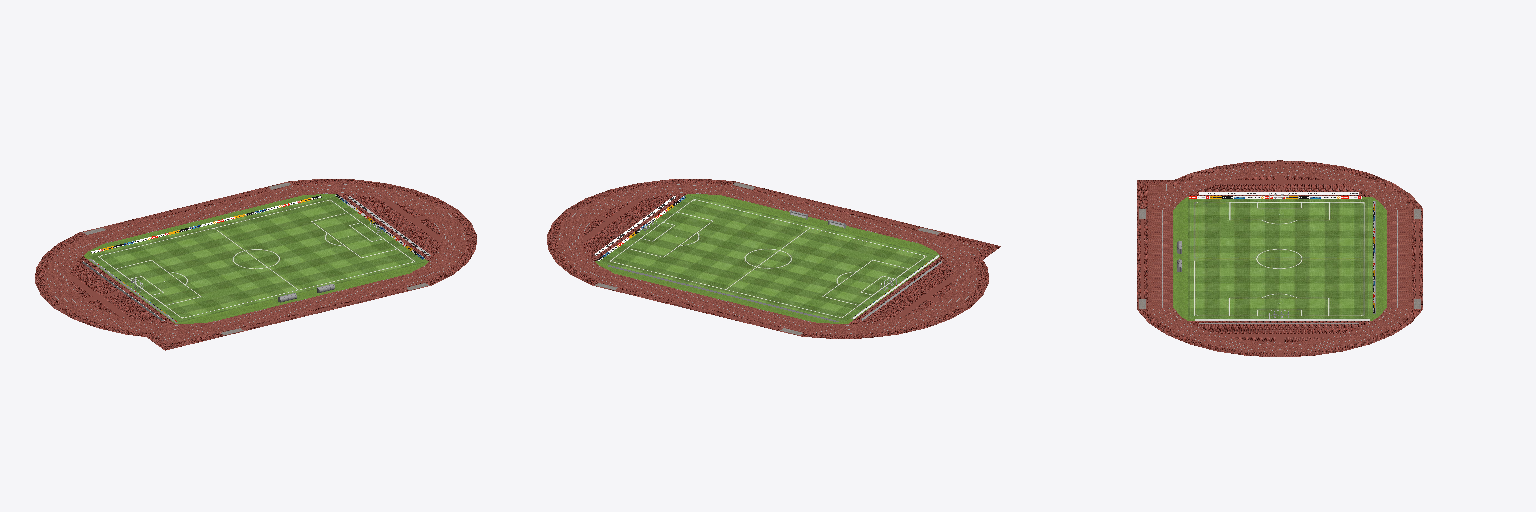
3 views of the same model, side by side, from view 1: azimuth 30°, elevation 25°; view 2: azimuth 150°, elevation 25°; view 3: azimuth 270°, elevation 25° (orthographic).
Visible parts, largest first — view 1: Mesh13 Component_6_1 ___4_1 Model, Mesh15 Component_6_1 ___4_1 Model; view 2: Mesh13 Component_6_1 ___4_1 Model; view 3: Mesh13 Component_6_1 ___4_1 Model.
Boxes of the visible parts, x1=… form: Mesh13 Component_6_1 ___4_1 Model: x1=35, y1=179, x2=476, y2=350; Mesh15 Component_6_1 ___4_1 Model: x1=91, y1=195, x2=321, y2=253; Mesh13 Component_6_1 ___4_1 Model: x1=547, y1=179, x2=1000, y2=338; Mesh13 Component_6_1 ___4_1 Model: x1=1137, y1=160, x2=1422, y2=356.
Bounding box in the file's own units: 183 × 2.54 × 112.
Materials: 13 (12 with a texture image).